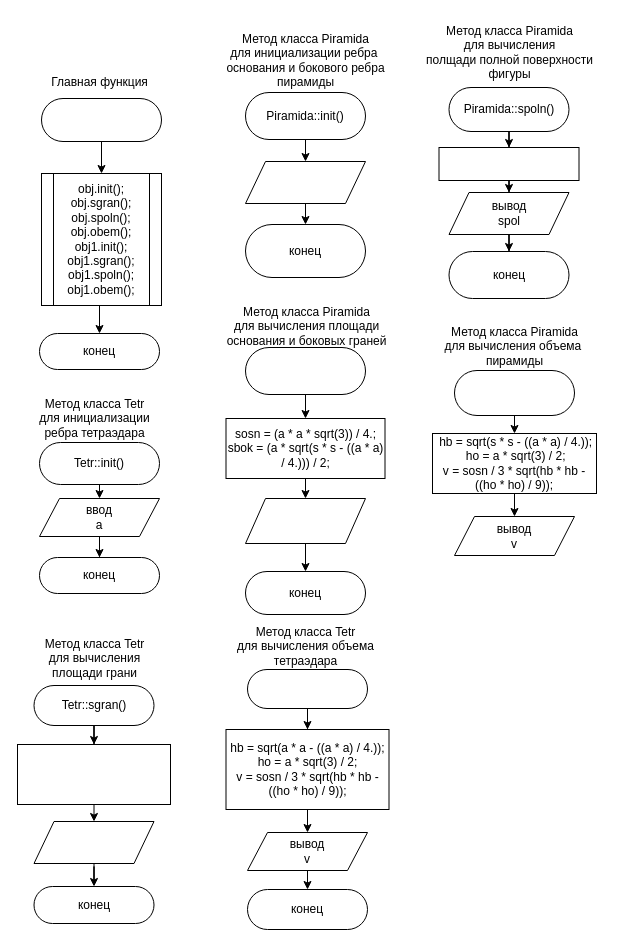
The diagram is 619 pixels wide and 947 high, and some of its shapes have lost their labels. Here are the shapes that lost their labels. From the top down, the centre of each, then its label:
At point (101, 120): "начало".
At point (305, 182): "ввод a,s".
At point (508, 163): "spol = sosn + 3 * sbok;".
At point (305, 370): "Piramida::sgran()".
At point (514, 393): "Piramida::obem()".
At point (305, 521): "вывод sosn, sbok".
At point (307, 688): "Tetr::obem()".
At point (93, 774): "sosn = (a * a * sqrt(3)) / 4.; sbok = sosn;".
At point (93, 842): "вывод sosn".
